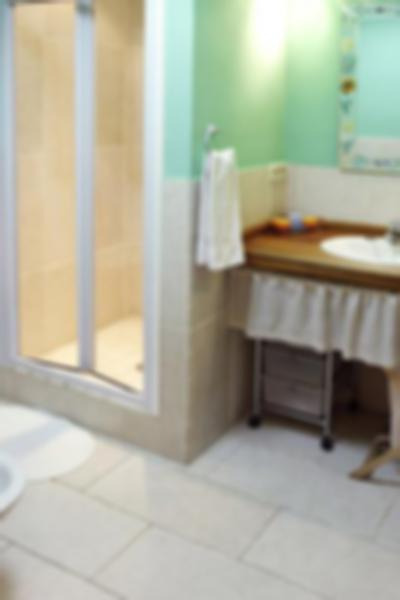Ducha: (0, 0, 158, 448)
Lavamanos: (305, 208, 400, 270)
